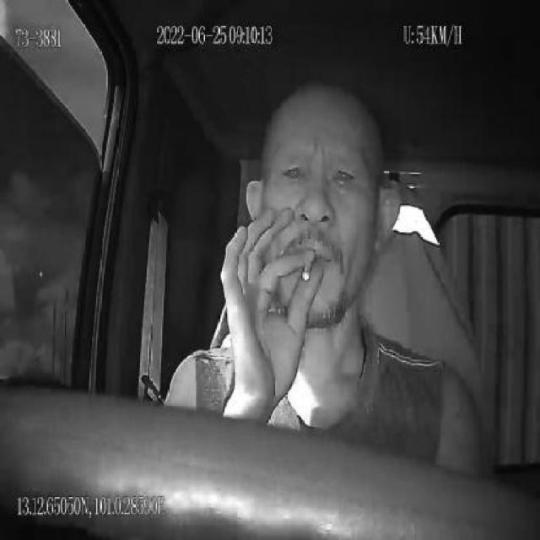smoking: (302, 258, 311, 282)
